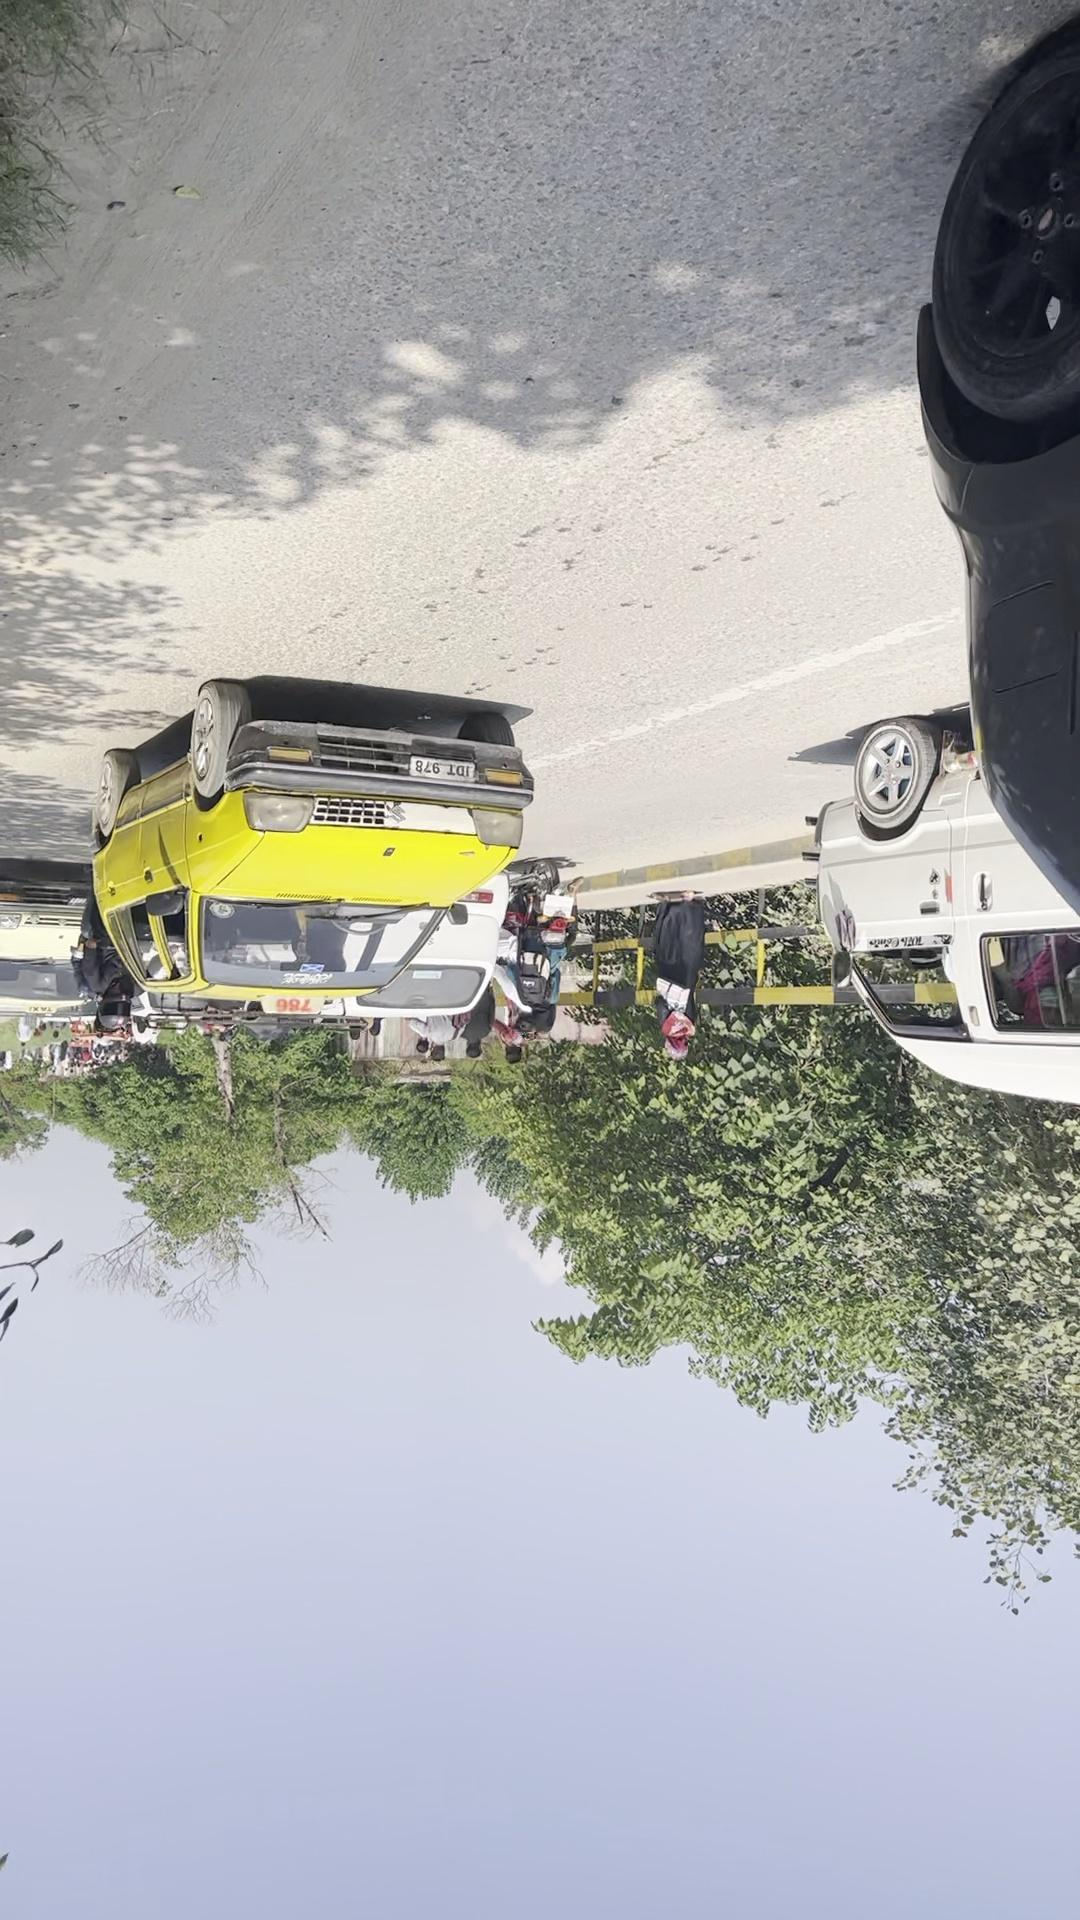windshield: (630, 920, 880, 1029)
